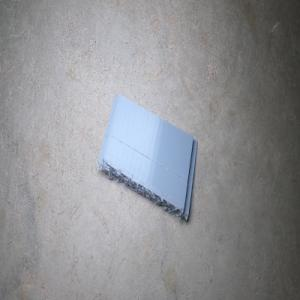PlasticPart: (95, 93, 198, 221)
